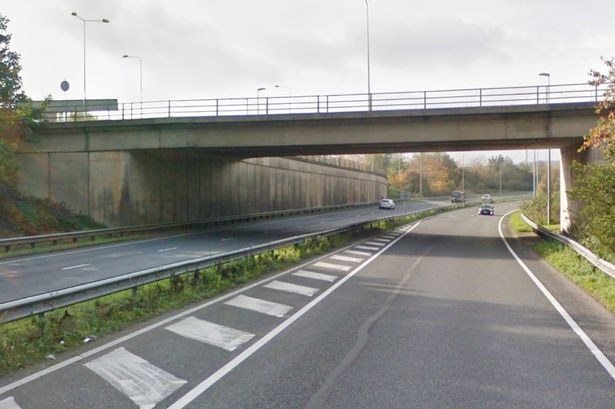bridge: (1, 81, 614, 158)
